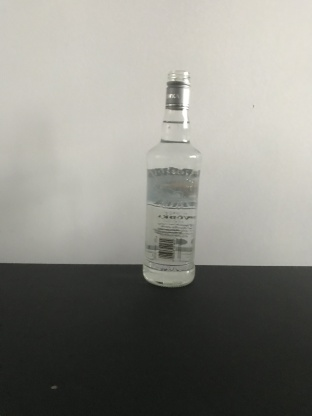nakretka: (163, 68, 192, 111)
